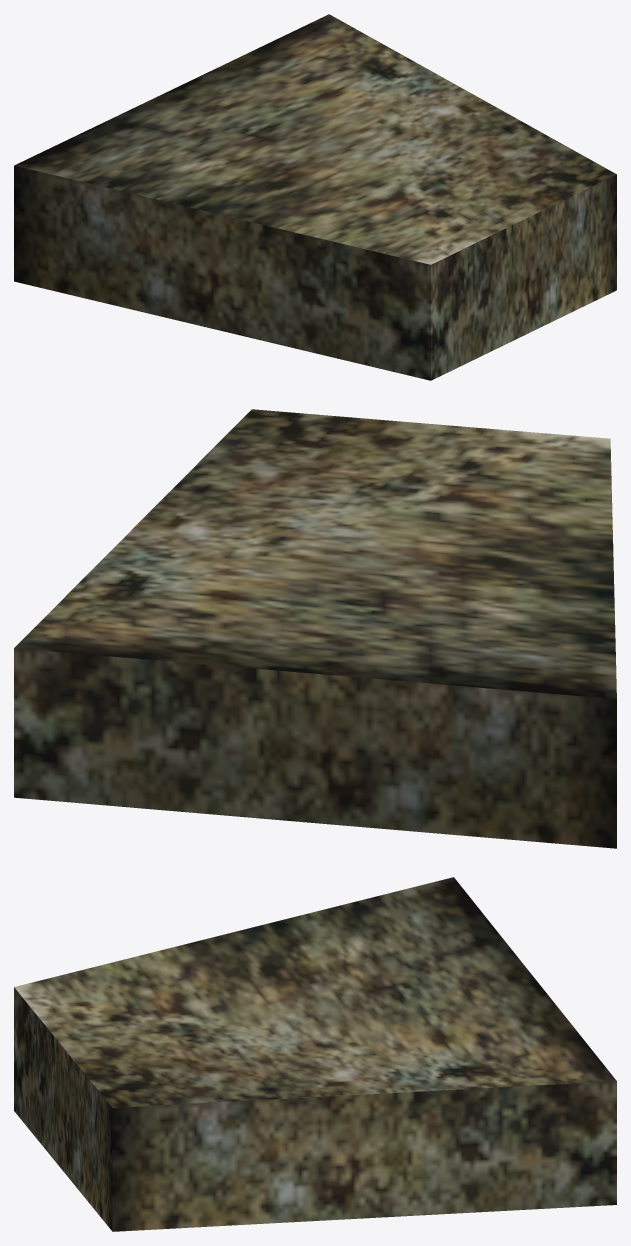
File: M10_Rubble03.glb
3 renders of one model, top to bottom at view 1: azimuth 30°, elevation 25°; view 2: azimuth 150°, elevation 25°; view 3: azimuth 270°, elevation 25°, orthographic. The views are drawn at different scales.
Parts seen in each view (by area): view 1: M10_RUBBLE03; view 2: M10_RUBBLE03; view 3: M10_RUBBLE03.
Part boxes in pixels (x1,y1,x2,y2): M10_RUBBLE03: [14, 14, 616, 380]; M10_RUBBLE03: [14, 409, 616, 848]; M10_RUBBLE03: [14, 877, 616, 1231].
Bounding box in the file's own units: 2 × 0.5 × 2.21.
Materials: 1 (1 with a texture image).
